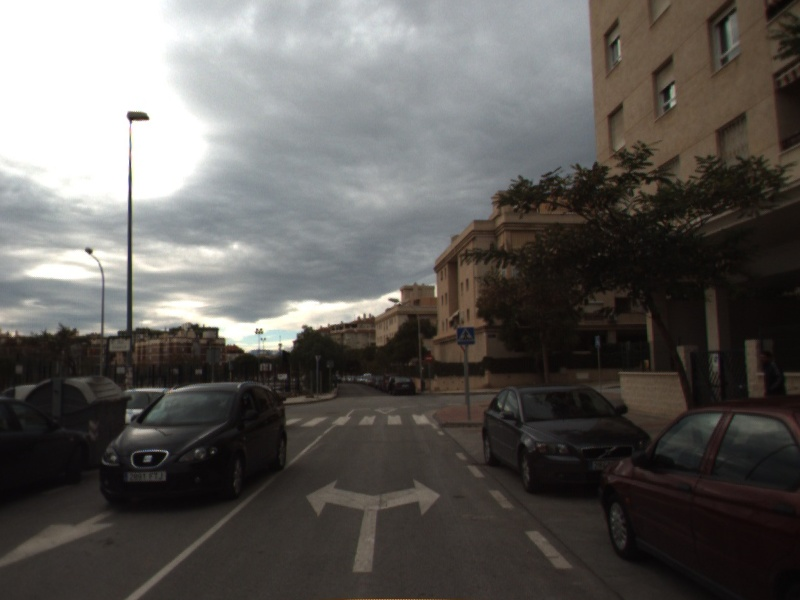LEFT_RIGHT: (303, 473, 443, 576)
